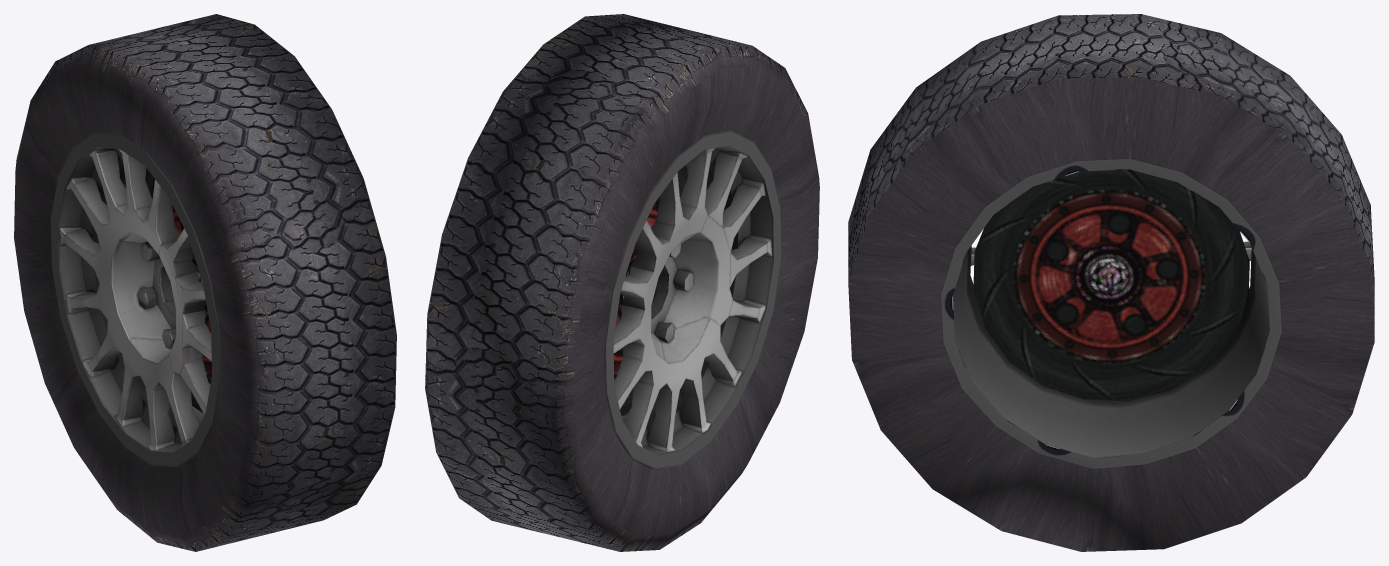
Rendered from Sport_2_Wheel.fbx.
3 renders of one model, left to right at view 1: azimuth 30°, elevation 25°; view 2: azimuth 150°, elevation 25°; view 3: azimuth 270°, elevation 25°, orthographic.
Visible parts, largest first — view 1: Sport_2_Wheel; view 2: Sport_2_Wheel; view 3: Sport_2_Wheel.
Part boxes in pixels (left/top/right/bottom): Sport_2_Wheel: left=14, top=14, right=396, bottom=551; Sport_2_Wheel: left=425, top=14, right=819, bottom=551; Sport_2_Wheel: left=848, top=14, right=1374, bottom=551.
Bounding box in the file's own units: 20.38 × 63.32 × 63.7.
